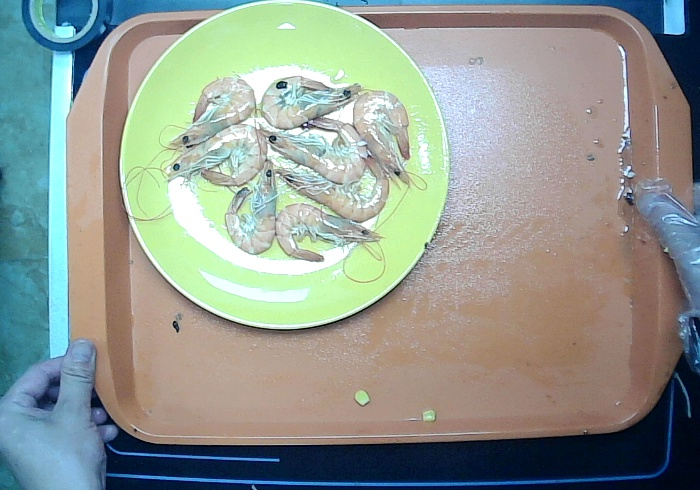HZYJPL-Huang_Se_Yuan_Pan: (114, 1, 459, 335)
